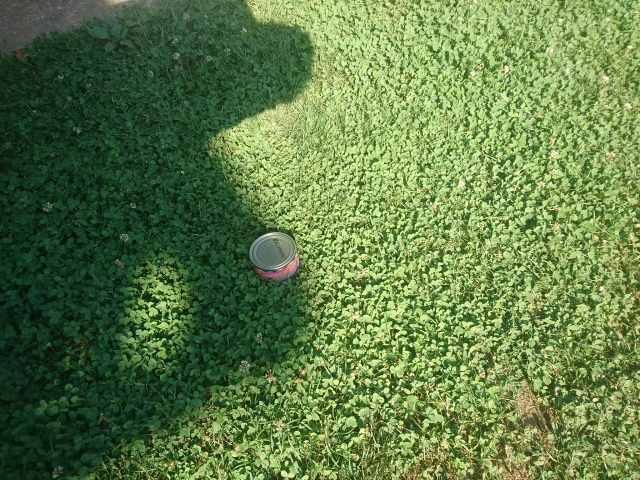Giana Tuna Salad Mexico 185g: (246, 227, 301, 285)
